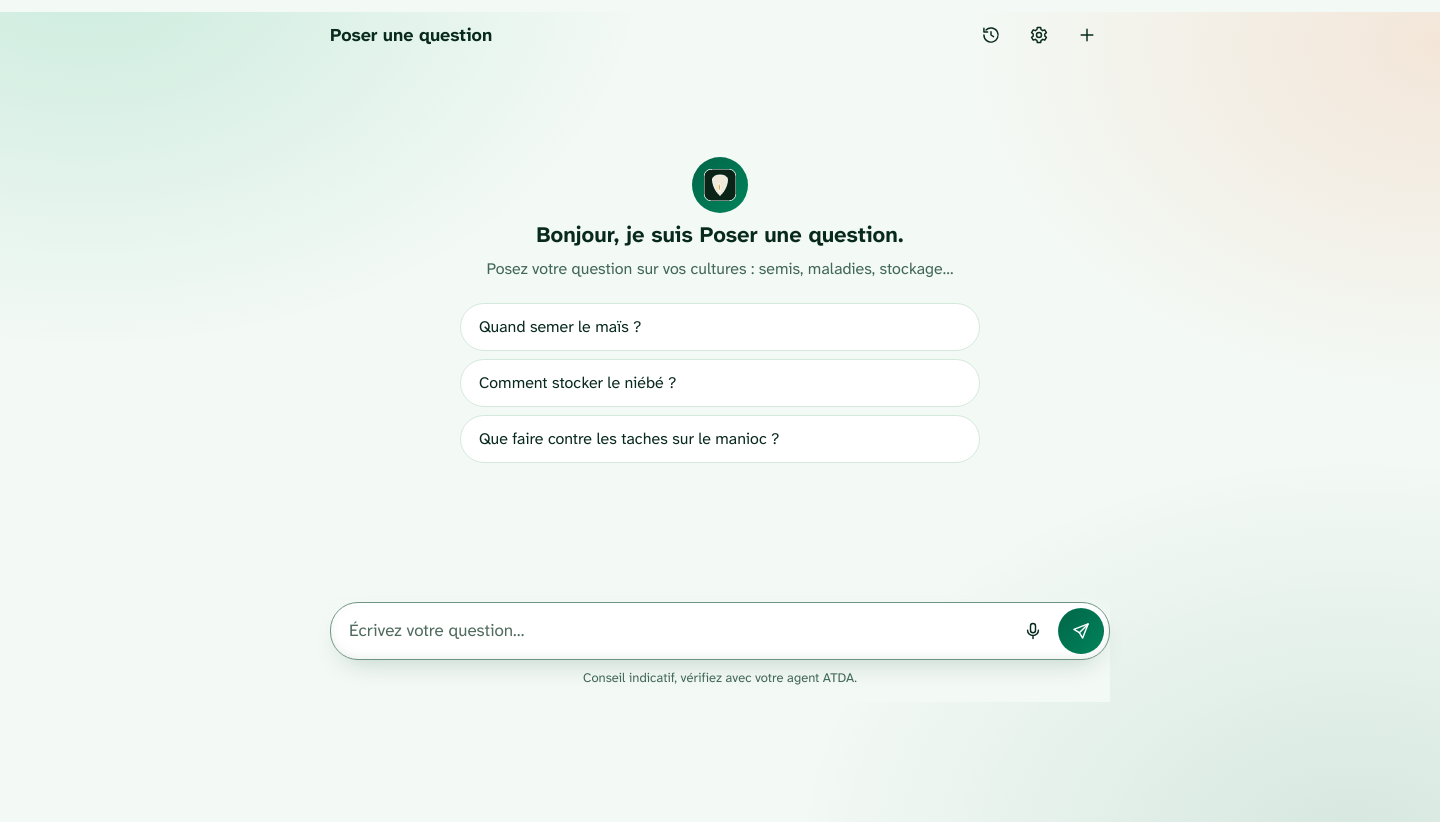
Test: Assistant agricole › question de dosage : le renvoi vers l'agent s'affiche une seule fois, avec le texte du serveur
In the text box with placeholder "Écrivez votre question…": (678, 631) [349,608,1008,654], type "Quelle dose ?"
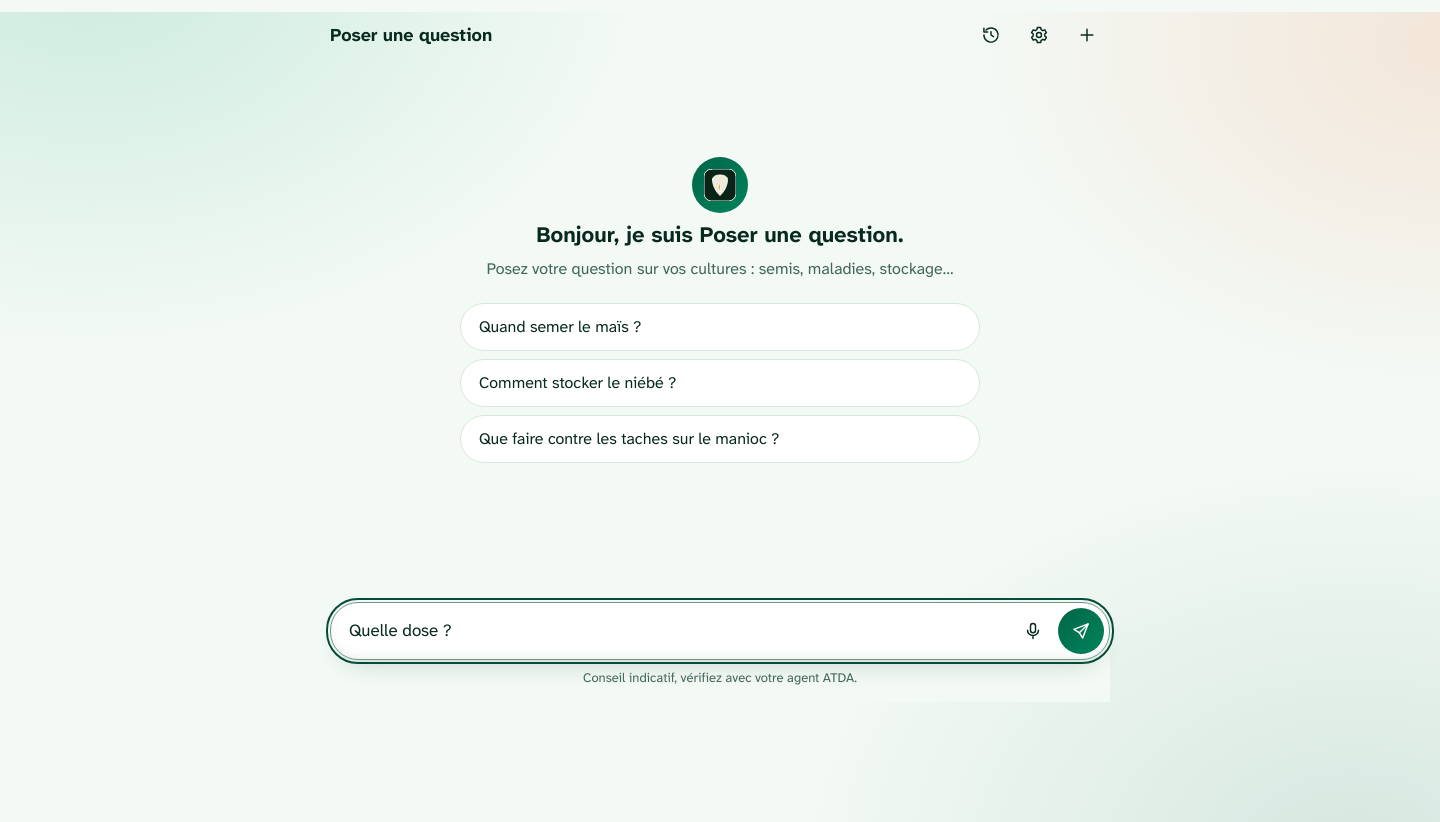
Click the button named "Envoyer": (1081, 631) [1058,608,1104,654]
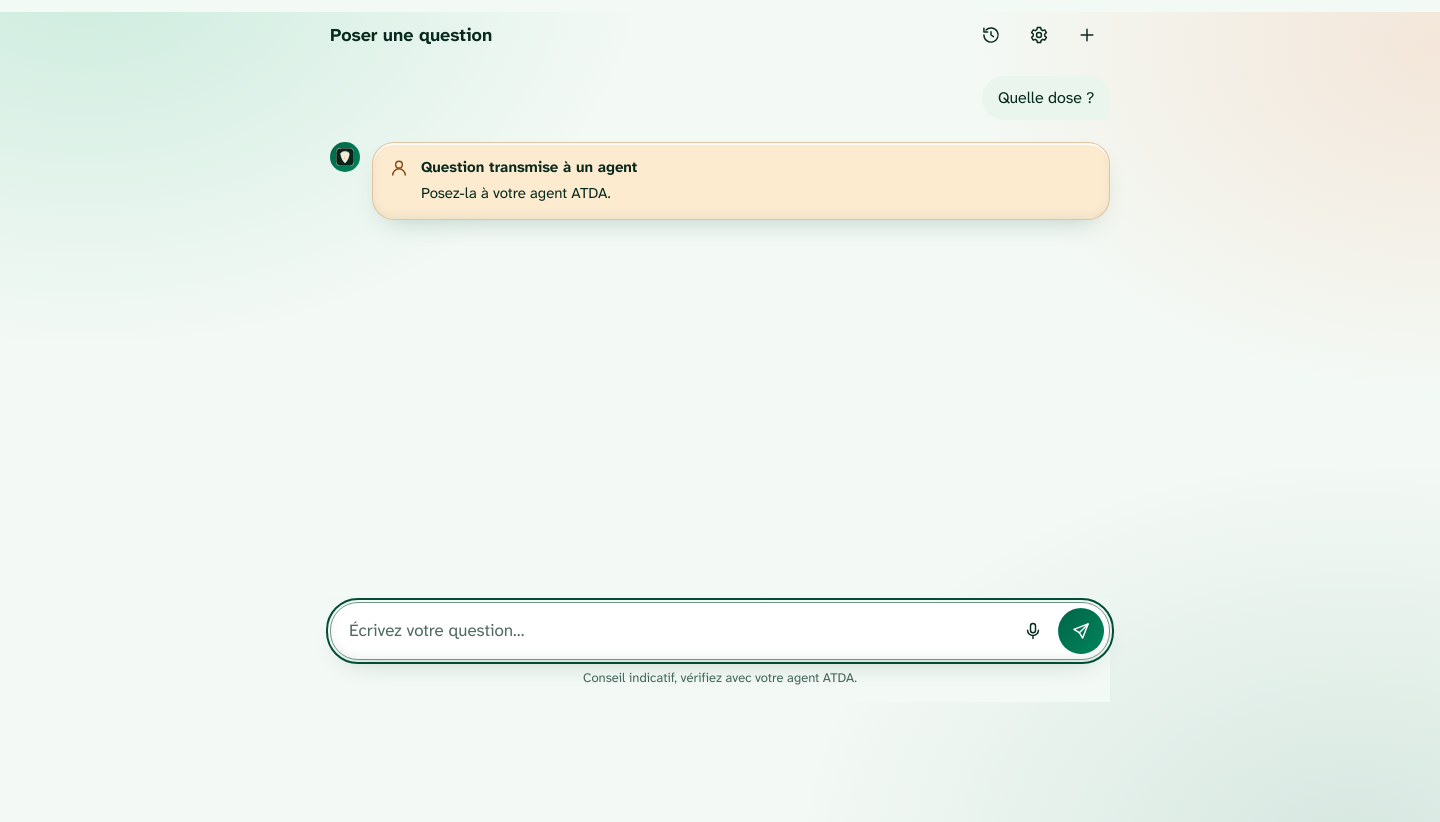
Expected: the text "Posez-la à votre agent ATDA." is shown, [421,183,611,203]
